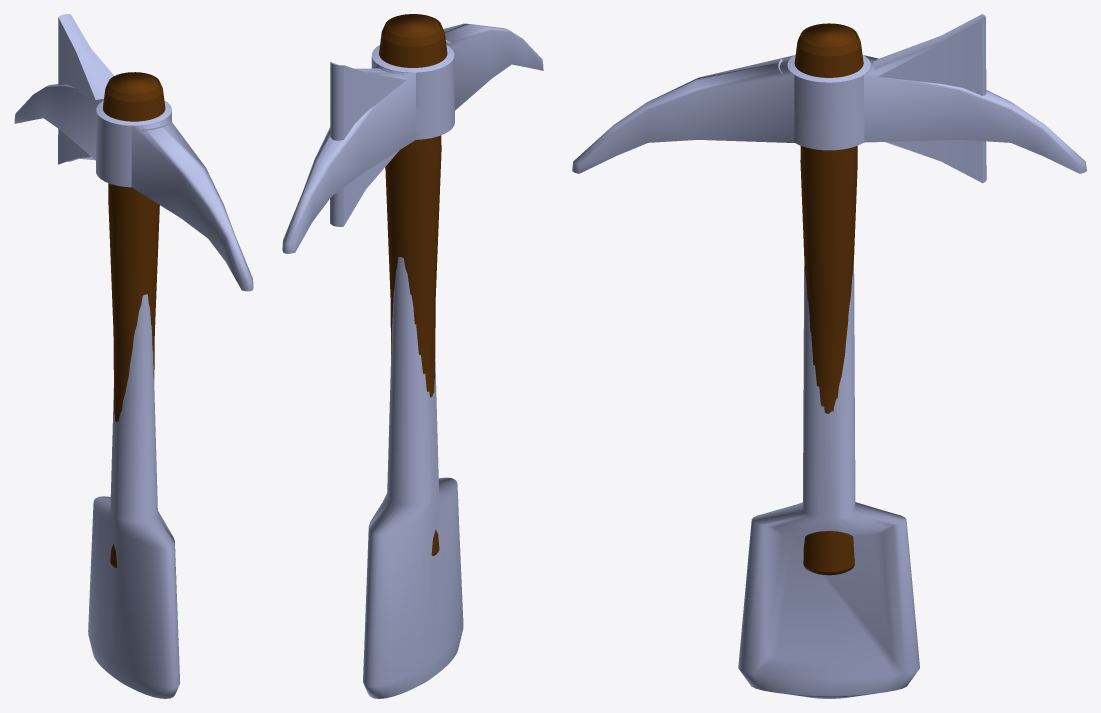
The model's file is ToolsOriginal.fbx.
3 views of the same model, side by side, from view 1: azimuth 30°, elevation 25°; view 2: azimuth 150°, elevation 25°; view 3: azimuth 270°, elevation 25° (orthographic). The views are drawn at different scales.
Visible parts, largest first — view 1: hand shovel, pickaxe, Cylinder.001, axe; view 2: hand shovel, pickaxe, Cylinder.001, axe; view 3: hand shovel, pickaxe, Cylinder.001, axe.
Part boxes in pixels (<box>): hand shovel: <box>88,294,179,698</box>; pickaxe: <box>14,73,253,291</box>; Cylinder.001: <box>96,72,171,567</box>; axe: <box>58,14,168,208</box>; hand shovel: <box>363,257,463,698</box>; pickaxe: <box>282,15,543,253</box>; Cylinder.001: <box>371,14,454,555</box>; axe: <box>330,16,454,226</box>; hand shovel: <box>738,260,919,698</box>; pickaxe: <box>572,24,1086,173</box>; Cylinder.001: <box>787,23,870,575</box>; axe: <box>778,14,986,183</box>.
Bounding box in the file's own units: 216 × 1903 × 1318.
